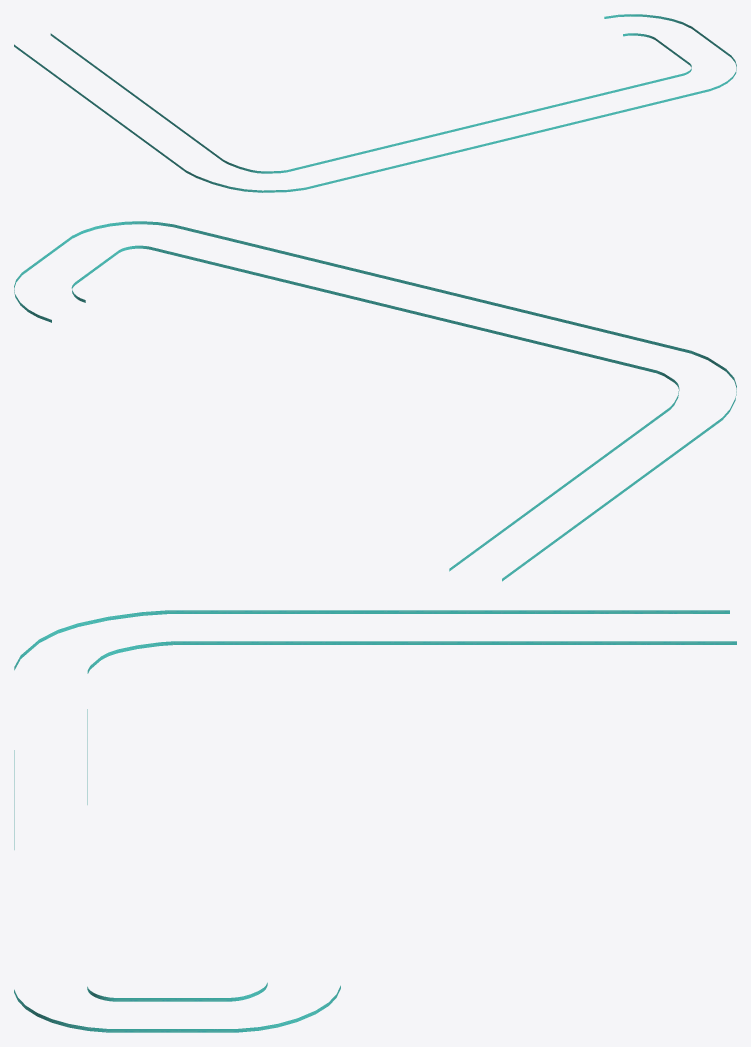
The model's file is rc_02_bud_01_02.FBX.
The picture shows the model from 3 angles, top to bottom: view 1: azimuth 30°, elevation 25°; view 2: azimuth 150°, elevation 25°; view 3: azimuth 270°, elevation 25°; orthographic projection. The views are drawn at different scales.
Parts seen in each view (by area): view 1: 对象001; view 2: 对象001; view 3: 对象001.
Boxes of the visible parts, bbox=[...] form: 对象001: bbox=[14, 14, 736, 192]; 对象001: bbox=[14, 221, 736, 581]; 对象001: bbox=[14, 610, 736, 1032].
Size of the model in its own units: 44130 by 32204 by 186.
